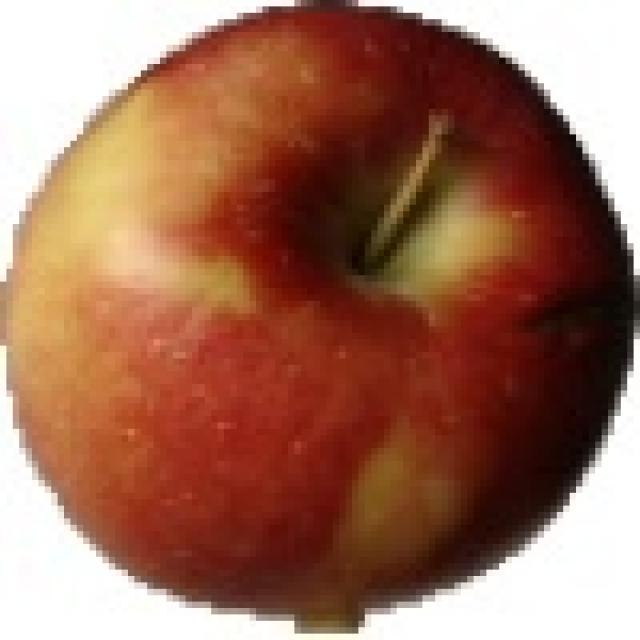apple: (16, 8, 634, 617)
